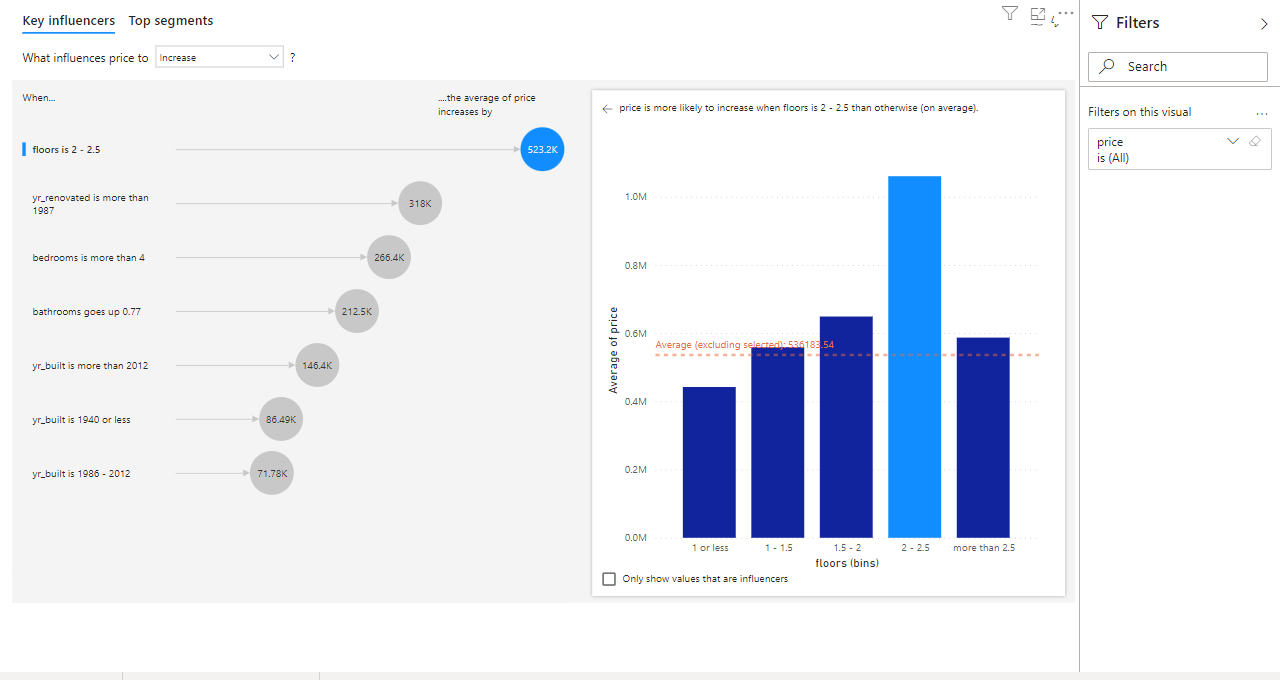

The page's visual inventory and layout, read from the dashboard file:
{"tool":"powerbi","page":{"name":"Halaman 3","canvas":[1280,720],"ordinal":2},"visuals":[{"type":"keyDriversVisual","fields":{"Target":["Worksheet.price"],"ExplainBy":["Sum(Worksheet.bedrooms)","Sum(Worksheet.bathrooms)","Sum(Worksheet.yr_built)","Sum(Worksheet.yr_renovated)","Sum(Worksheet.floors)"]},"box":[9.5,0,1270.5,719.5],"z":0}]}

Visuals, with their boxes on the page's 1280x720 design canvas (x1, y1, x2, y2). These are canvas units, not pixel positions in the 1280x680 screenshot, which may show the page scaled, cropped or inside an application window:
keyDriversVisual - Worksheet.price x Sum(Worksheet.bedrooms): x1=10, y1=0, x2=1280, y2=720
